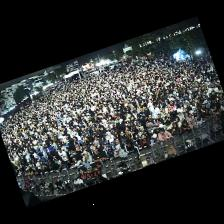person: (124, 141, 140, 164), (57, 148, 71, 167), (63, 139, 75, 156), (194, 112, 206, 128), (93, 148, 106, 162), (82, 152, 92, 170), (81, 143, 92, 159), (157, 129, 171, 141), (129, 129, 139, 145), (113, 145, 126, 157), (92, 141, 103, 155), (150, 103, 159, 119), (56, 156, 66, 170), (44, 143, 55, 155), (47, 159, 59, 170), (72, 154, 82, 167), (180, 120, 190, 133), (96, 126, 106, 139), (105, 132, 114, 146), (39, 161, 50, 172), (90, 127, 100, 139), (139, 135, 149, 147), (170, 122, 179, 135), (163, 113, 174, 123), (202, 108, 210, 121), (93, 136, 103, 146), (114, 138, 123, 149), (106, 146, 113, 160), (40, 149, 47, 163), (120, 131, 128, 143), (49, 141, 57, 153), (186, 112, 194, 124), (163, 121, 172, 131), (177, 110, 184, 122), (103, 141, 109, 155), (143, 129, 151, 139), (150, 134, 158, 144), (189, 119, 197, 129), (96, 175, 106, 183), (137, 126, 143, 139), (153, 124, 160, 135), (209, 109, 216, 120), (160, 107, 166, 119), (147, 123, 154, 133), (125, 125, 130, 138), (26, 167, 34, 175), (156, 119, 163, 128), (175, 117, 181, 127), (19, 169, 27, 176), (33, 167, 40, 175), (182, 109, 187, 118), (28, 163, 34, 168)
